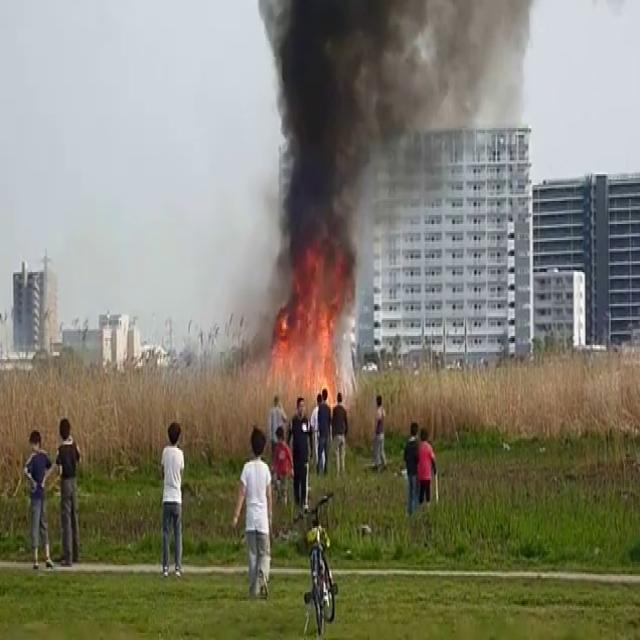Fire: (259, 260, 347, 406)
Smoke: (249, 0, 542, 299)
